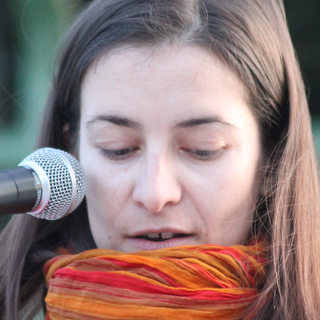eye: (172, 136, 233, 163), (93, 135, 145, 164)
